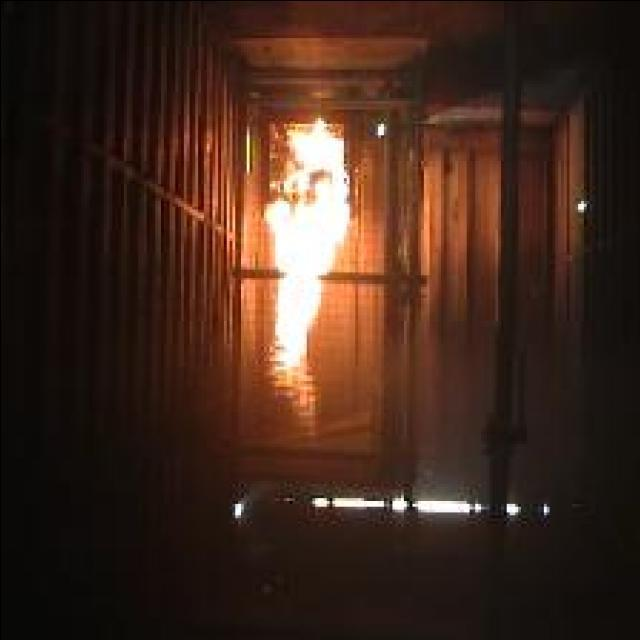Fire: (262, 118, 348, 436)
